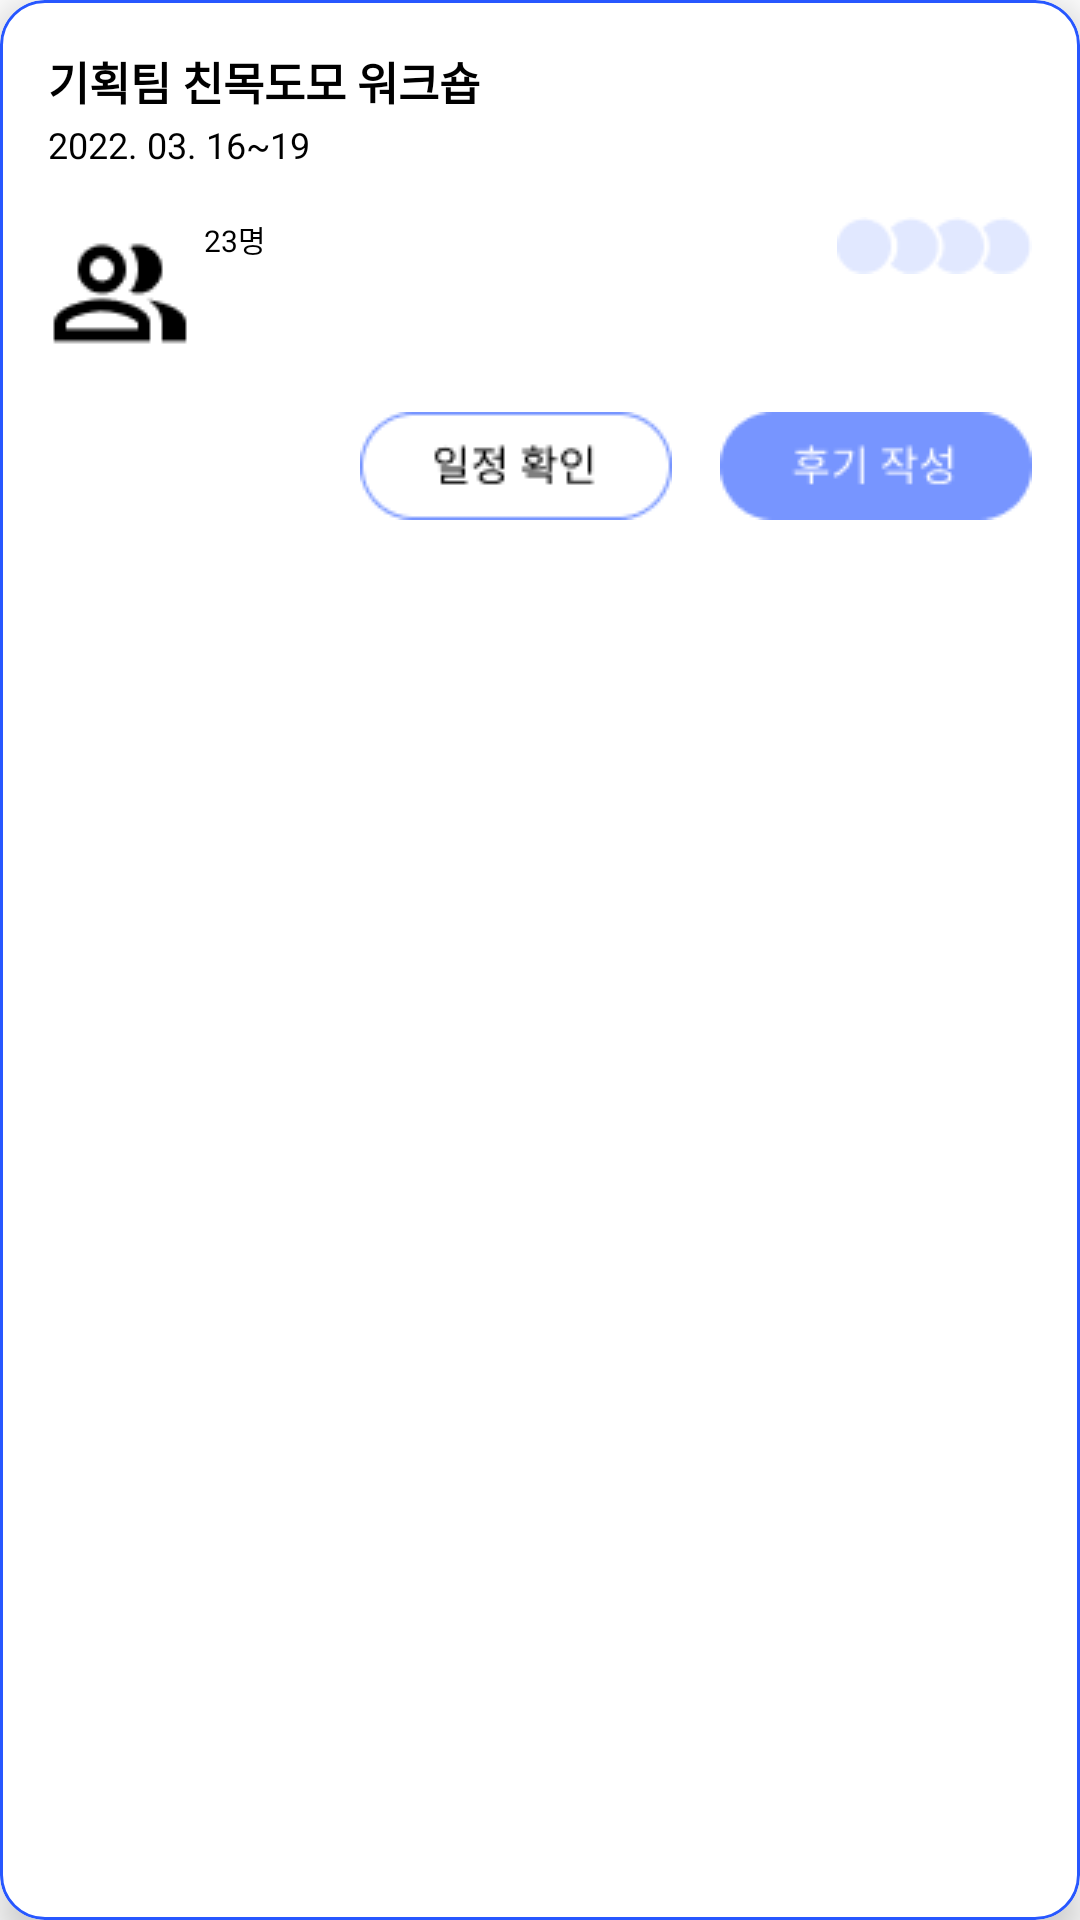

Named icons in this screenshot (1080 × 1920) and their centers, [x,y]:
people: [120,293]
